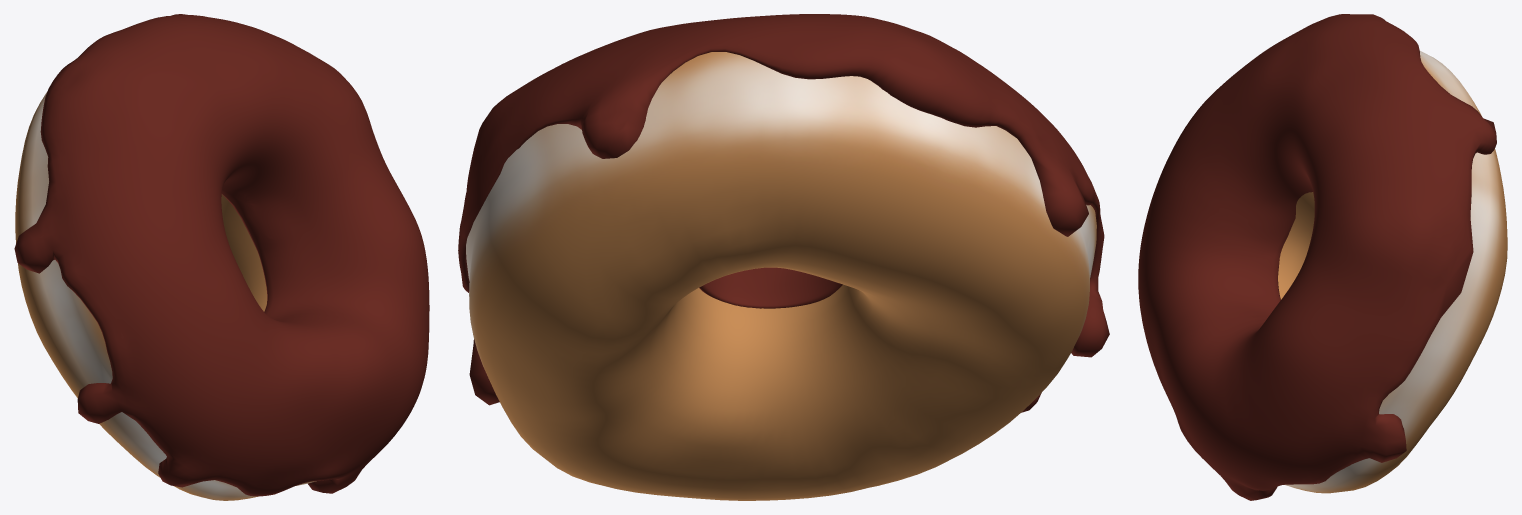
The model's file is new-donut.glb.
3 views of the same model, side by side, from view 1: azimuth 30°, elevation 25°; view 2: azimuth 150°, elevation 25°; view 3: azimuth 270°, elevation 25° (orthographic). The views are drawn at different scales.
Visible parts, largest first — view 1: Icing, Donut; view 2: Donut, Icing; view 3: Icing, Donut.
Part boxes in pixels (x1,y1,x2,y2): Icing: [14, 14, 429, 496]; Donut: [15, 92, 316, 500]; Donut: [466, 52, 1096, 500]; Icing: [458, 14, 1109, 412]; Icing: [1138, 14, 1496, 500]; Donut: [1278, 51, 1507, 493].
Size of the model in its own units: 0.1294 by 0.1268 by 0.105.
2 materials, 1 textured.
